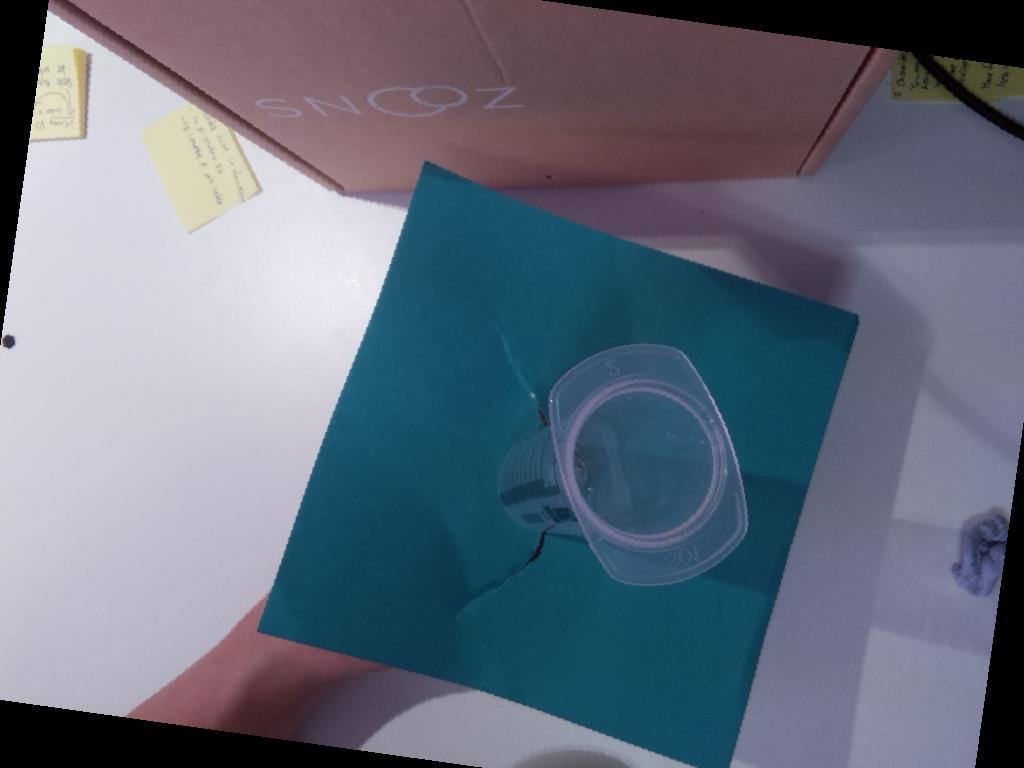clean: (547, 341, 751, 585)
